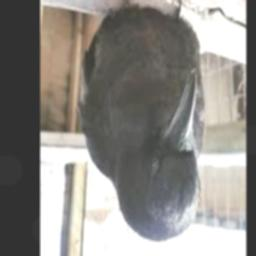Crow: (77, 0, 205, 242)
